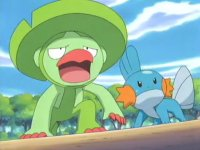mudkip: (113, 45, 197, 128)
